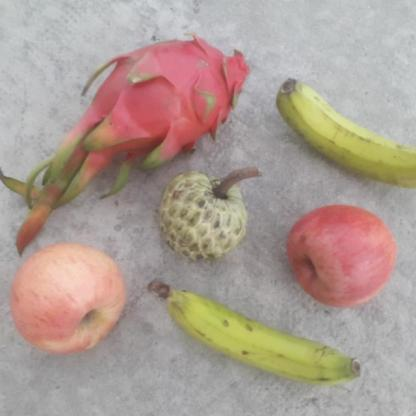annona: (156, 169, 252, 263)
apple: (86, 34, 250, 168), (8, 242, 128, 359), (286, 203, 400, 313)
banana: (147, 284, 370, 390), (276, 76, 416, 194)
